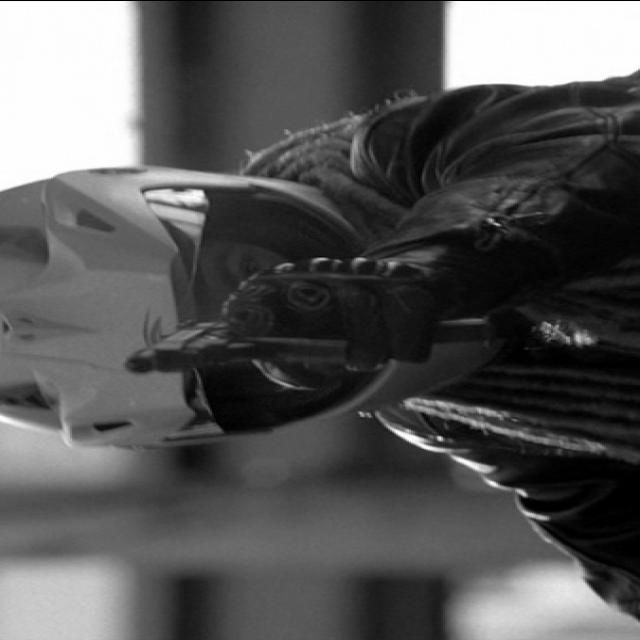weapons: (92, 294, 424, 394)
